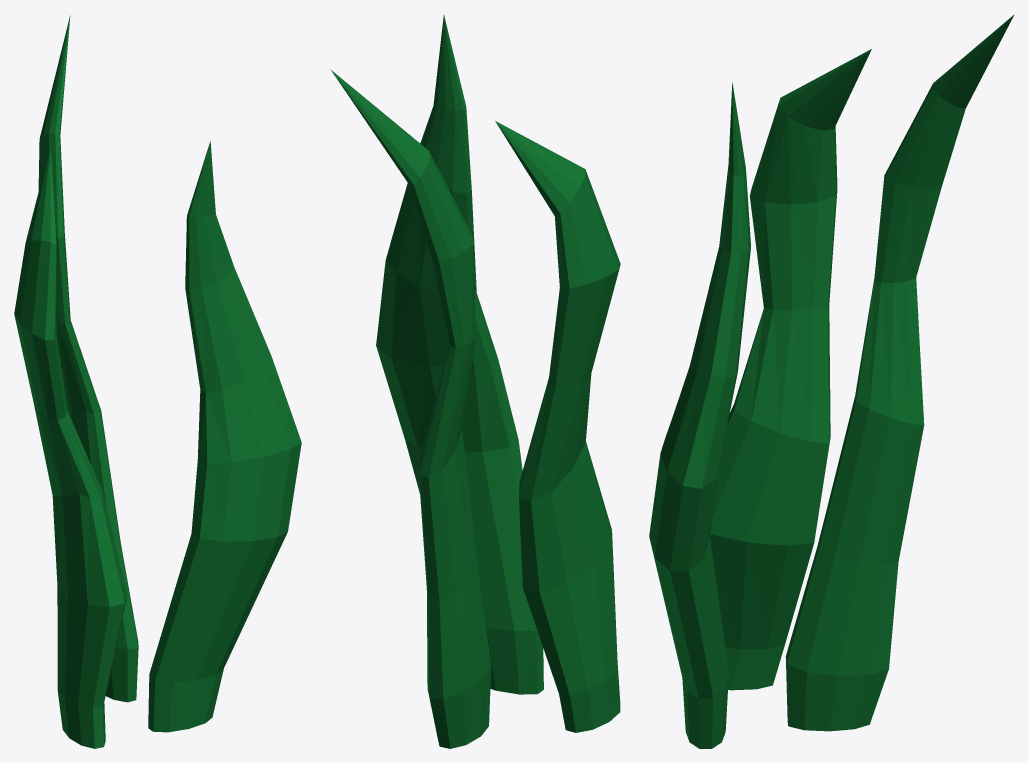
The model's file is seaweed-2.glb.
3 renders of one model, left to right at view 1: azimuth 30°, elevation 25°; view 2: azimuth 150°, elevation 25°; view 3: azimuth 270°, elevation 25°, orthographic. The views are drawn at different scales.
Visible parts, largest first — view 1: seaweed-2; view 2: seaweed-2; view 3: seaweed-2.
Boxes of the visible parts, bbox=[...] form: seaweed-2: bbox=[14, 15, 301, 748]; seaweed-2: bbox=[331, 15, 620, 748]; seaweed-2: bbox=[649, 14, 1014, 748].
Bounding box in the file's own units: 0.0926 × 0.2303 × 0.1046.
